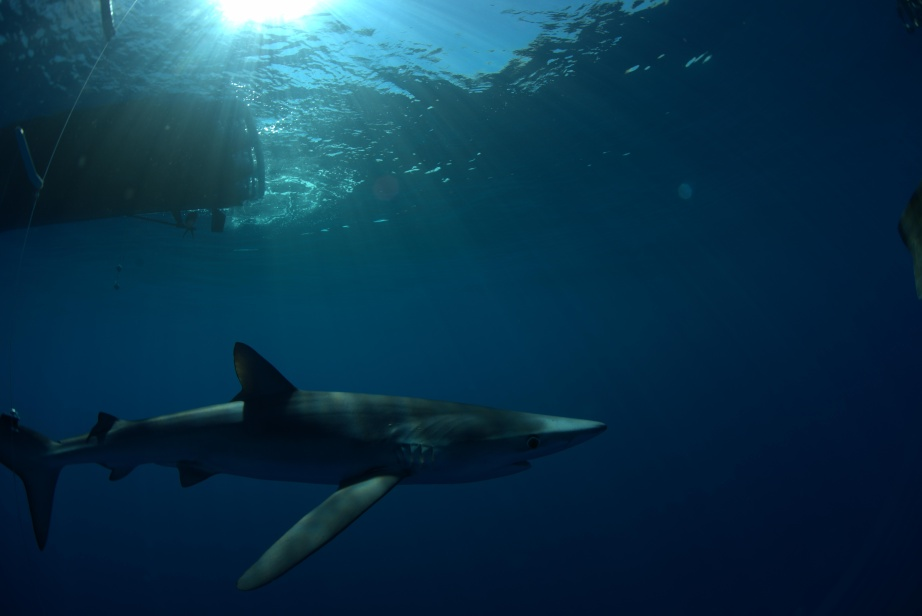Azul: (4, 309, 647, 616)
